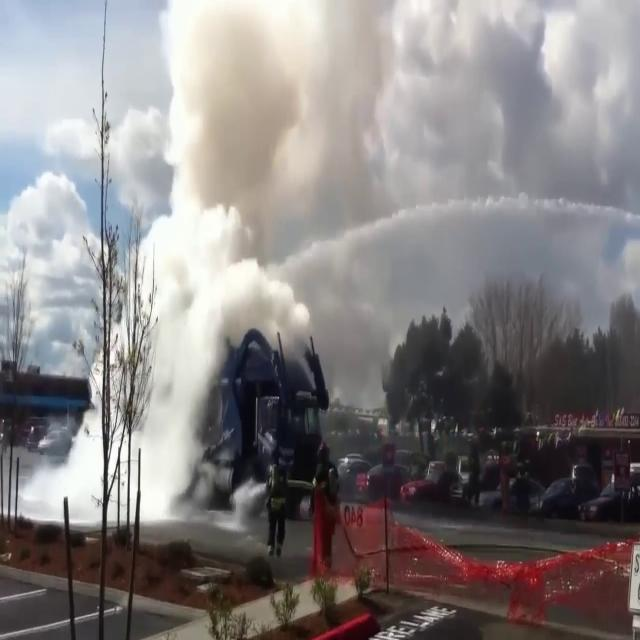Smoke: (41, 1, 400, 512)
